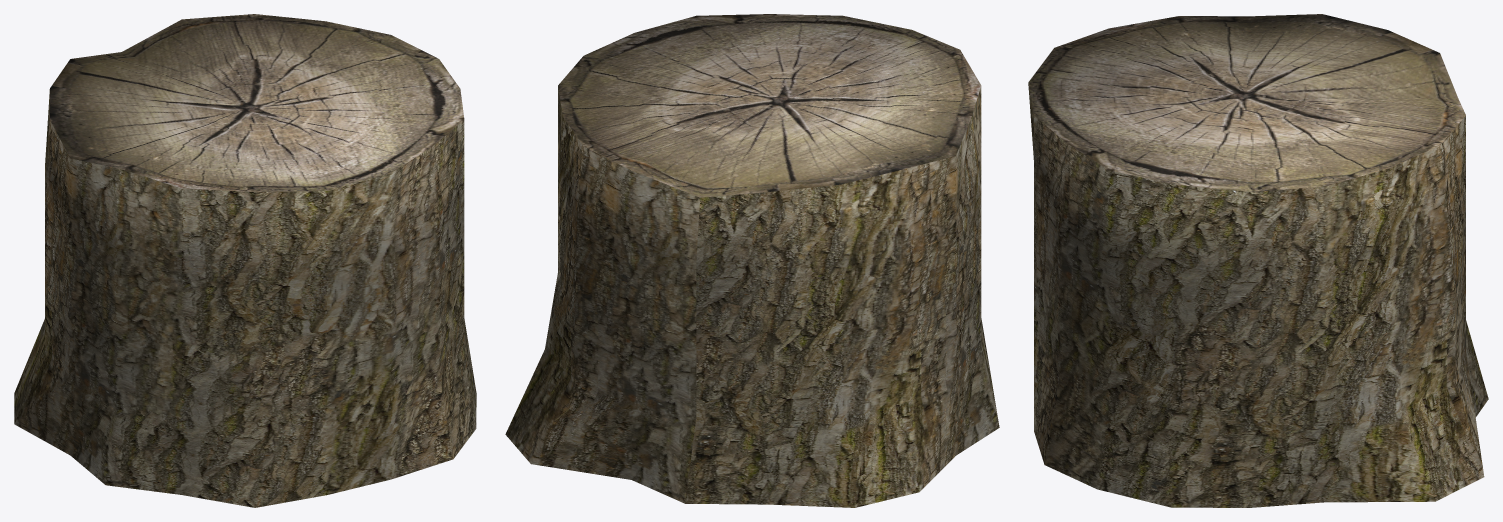
File: tronco.obj
3 views of the same model, side by side, from view 1: azimuth 30°, elevation 25°; view 2: azimuth 150°, elevation 25°; view 3: azimuth 270°, elevation 25° (orthographic). The views are drawn at different scales.
Bounding box in the file's own units: 1.31 × 1.02 × 1.33.
Materials: 2 (2 with a texture image).
